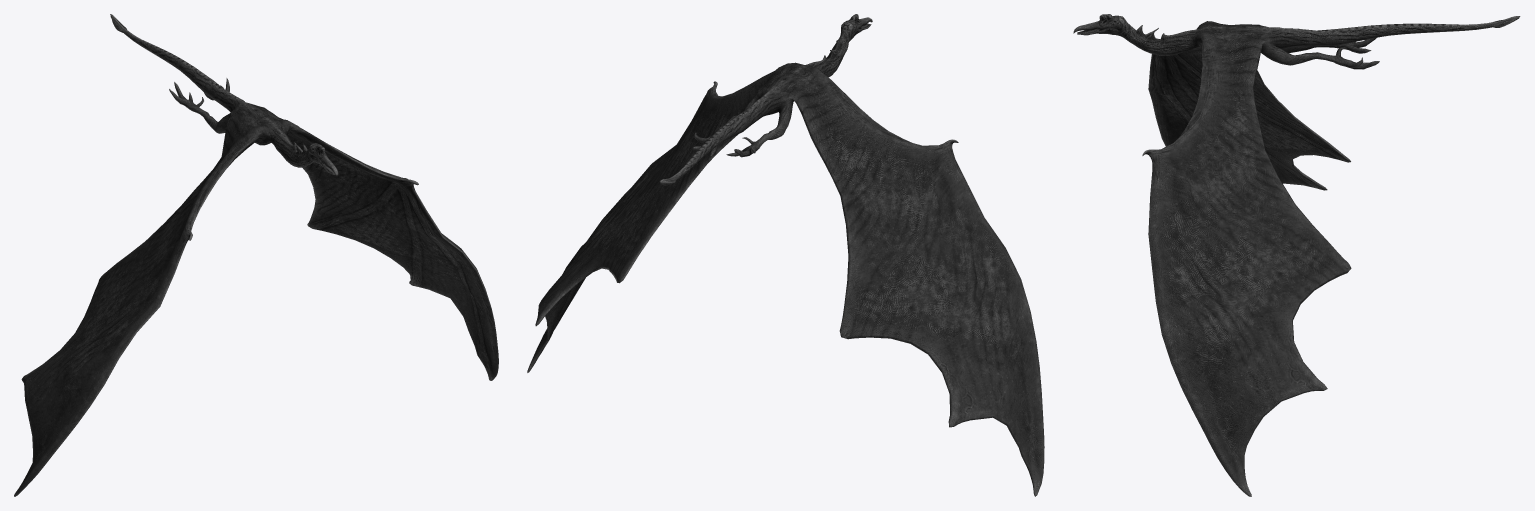
Rendered from Fellbeast_FlyAnim_28.obj.
The picture shows the model from 3 angles, left to right: view 1: azimuth 30°, elevation 25°; view 2: azimuth 150°, elevation 25°; view 3: azimuth 270°, elevation 25°; orthographic projection. The views are drawn at different scales.
Parts seen in each view (by area): view 1: Fellbeast; view 2: Fellbeast; view 3: Fellbeast.
Boxes of the visible parts, x1,y1,x2,y2 form: Fellbeast: (14, 14, 498, 496); Fellbeast: (527, 14, 1044, 496); Fellbeast: (1073, 14, 1520, 496).
Bounding box in the file's own units: 5.7 × 3.92 × 4.4.
